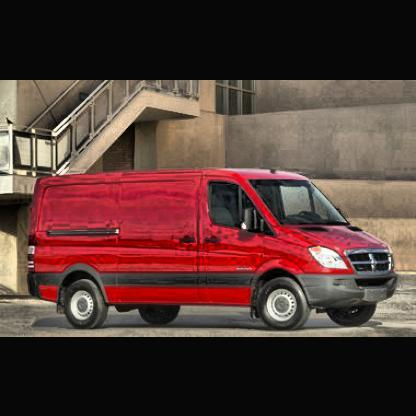Dodge Sprinter Cargo Van 2009: (27, 165, 401, 333)
